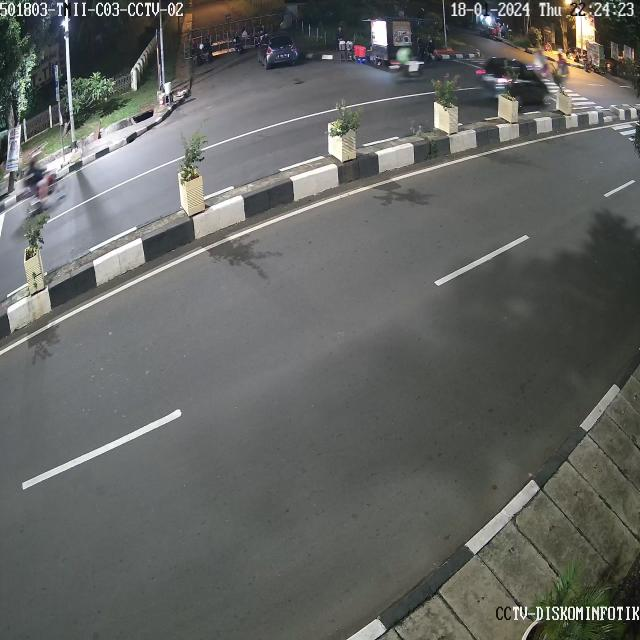Sepeda-motor: (349, 19, 432, 74), (356, 14, 425, 73)
